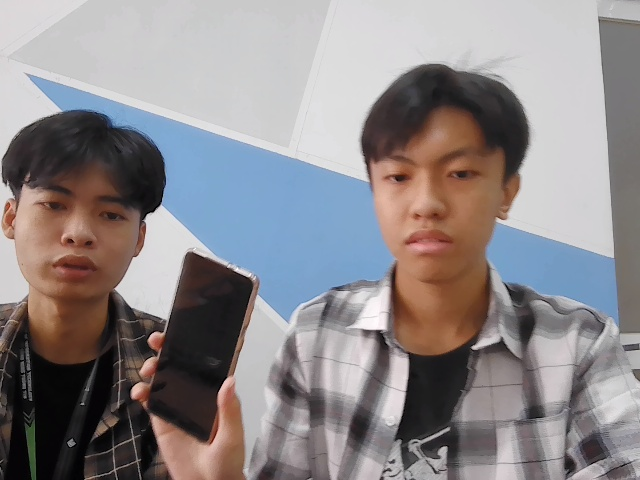human: (353, 50, 523, 268), (1, 107, 168, 309)
phone: (140, 238, 274, 435)
